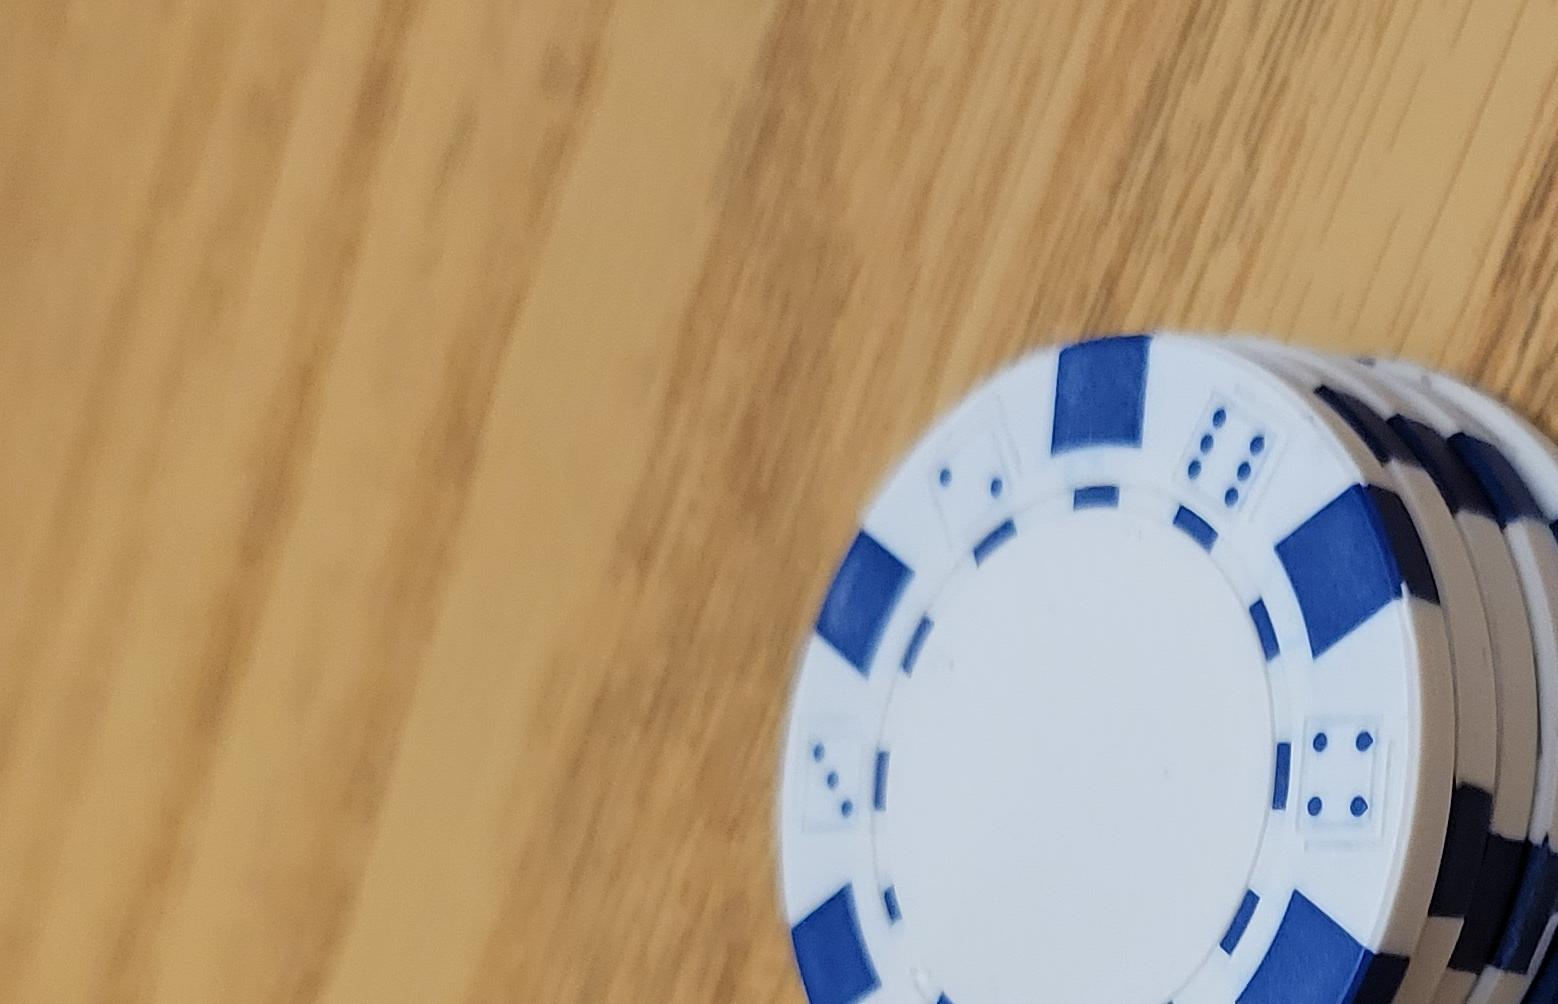Chip: (1, 98, 1016, 1004)
